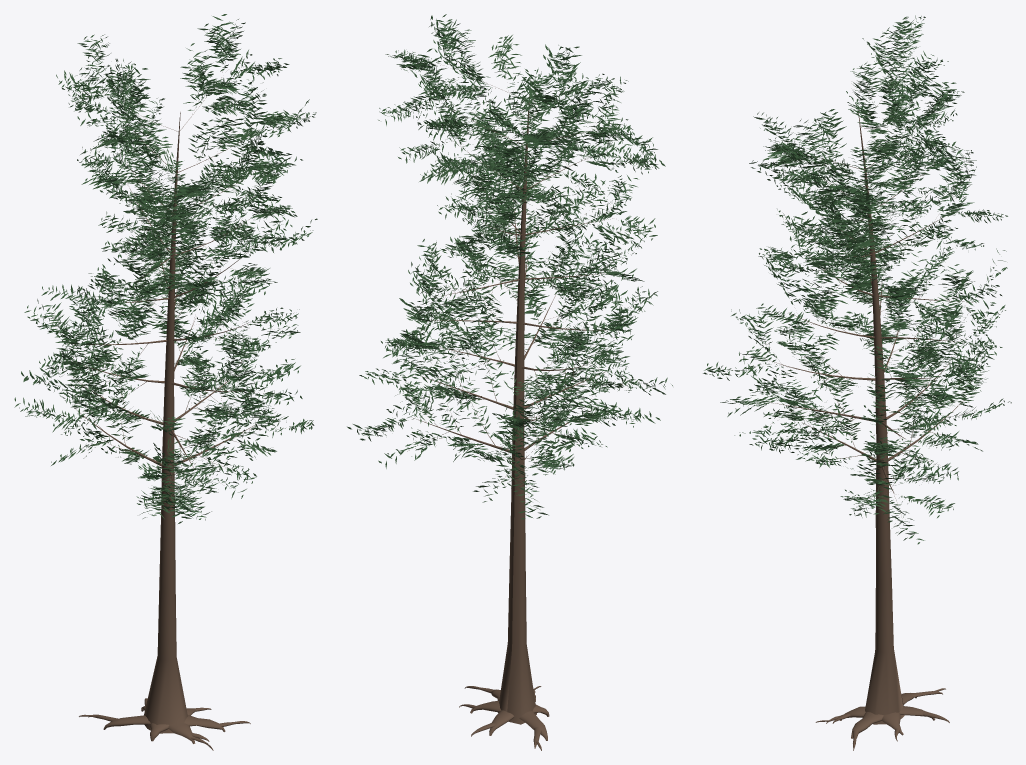
Rendered from tall-pine-1-1-1.glb.
3 views of the same model, side by side, from view 1: azimuth 30°, elevation 25°; view 2: azimuth 150°, elevation 25°; view 3: azimuth 270°, elevation 25° (orthographic). The views are drawn at different scales.
Parts seen in each view (by area): view 1: tall-pine:1:1:1-lod0-leaves, tall-pine:1:1:1-lod0-branches; view 2: tall-pine:1:1:1-lod0-leaves, tall-pine:1:1:1-lod0-branches; view 3: tall-pine:1:1:1-lod0-leaves, tall-pine:1:1:1-lod0-branches.
Part boxes in pixels (x1,y1,x2,y2): tall-pine:1:1:1-lod0-leaves: [14, 14, 317, 523]; tall-pine:1:1:1-lod0-branches: [64, 70, 278, 750]; tall-pine:1:1:1-lod0-leaves: [347, 14, 672, 519]; tall-pine:1:1:1-lod0-branches: [386, 59, 633, 750]; tall-pine:1:1:1-lod0-leaves: [703, 15, 1011, 544]; tall-pine:1:1:1-lod0-branches: [727, 46, 980, 750].
Size of the model in its own units: 11.53 by 28.84 by 11.93.
